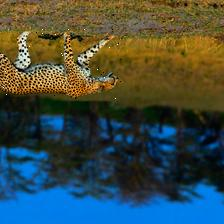Cheetha: (0, 28, 124, 100)
